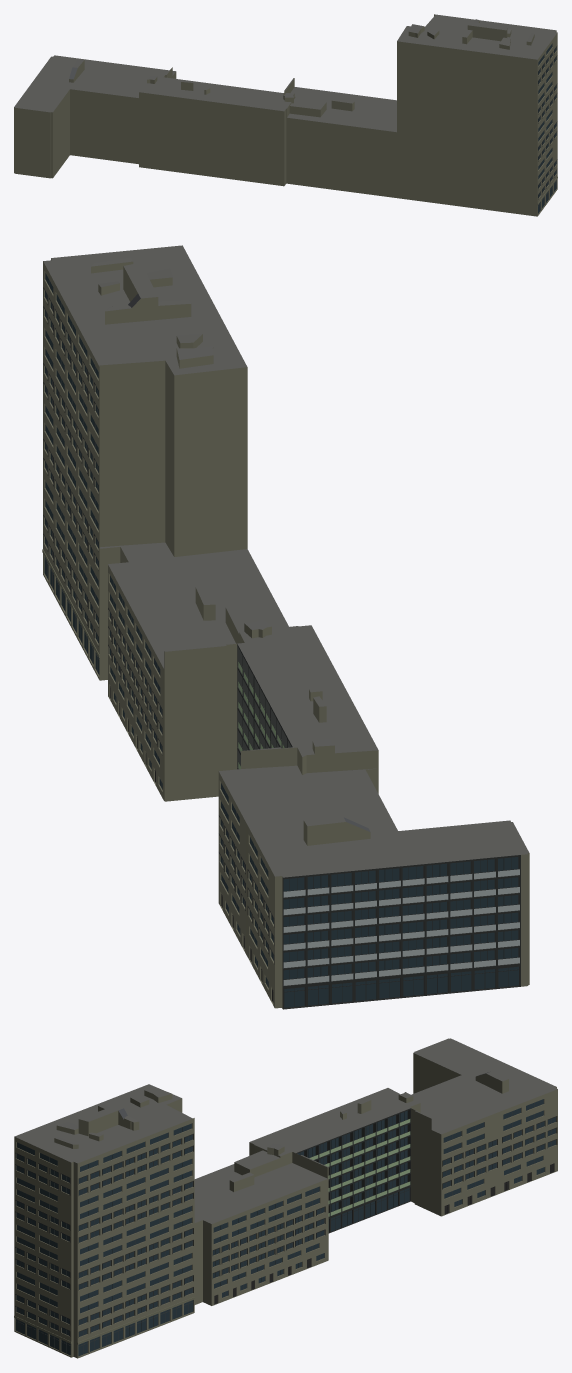
File: recipe-large-carolina-macgillavrylaan-208-240261.glb
The picture shows the model from 3 angles, top to bottom: view 1: azimuth 30°, elevation 25°; view 2: azimuth 150°, elevation 25°; view 3: azimuth 270°, elevation 25°; orthographic projection. The views are drawn at different scales.
Parts seen in each view (by area): view 1: carolina-macgillavrylaan-208-240261; view 2: carolina-macgillavrylaan-208-240261; view 3: carolina-macgillavrylaan-208-240261.
Boxes of the visible parts, box(x1,y1,x2,y2) form: carolina-macgillavrylaan-208-240261: box(14, 14, 557, 216); carolina-macgillavrylaan-208-240261: box(42, 245, 529, 1009); carolina-macgillavrylaan-208-240261: box(14, 1038, 557, 1358).
Size of the model in its own units: 135 by 55.5 by 131.
